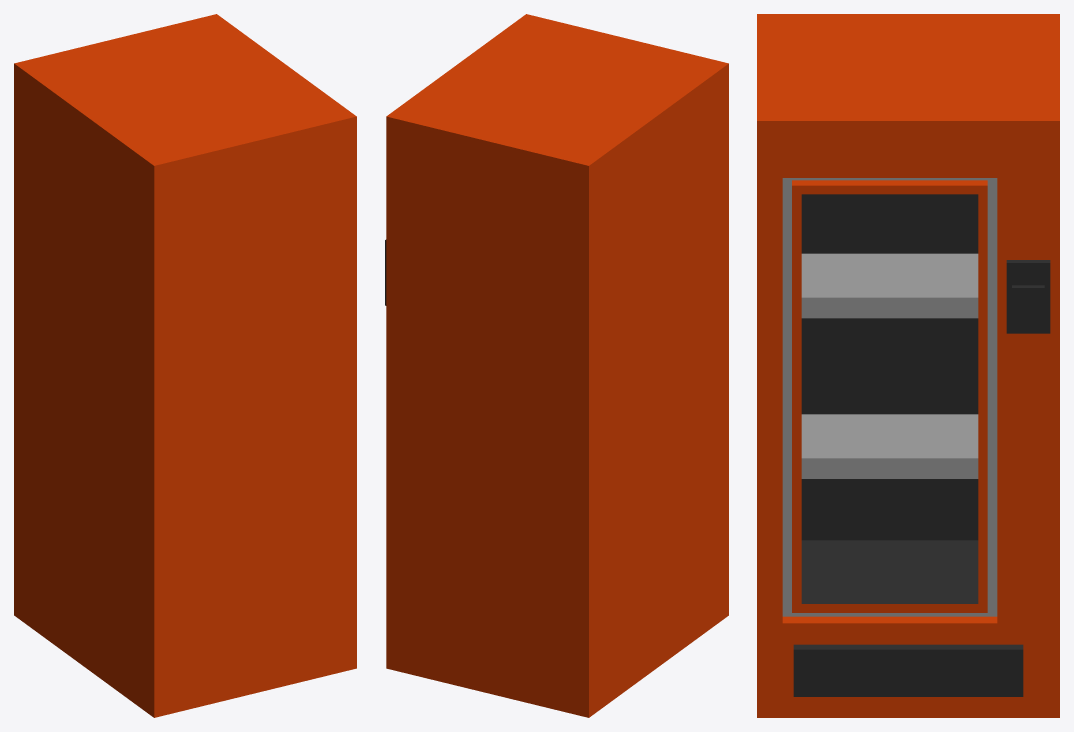
The model's file is vending.fbx.
3 views of the same model, side by side, from view 1: azimuth 30°, elevation 25°; view 2: azimuth 150°, elevation 25°; view 3: azimuth 270°, elevation 25° (orthographic). The views are drawn at different scales.
Parts seen in each view (by area): view 1: Cube; view 2: Cube; view 3: Cube, Cube.004, Cube.003, Cube.001.
Boxes of the visible parts, bbox=[...] form: Cube: bbox=[14, 14, 356, 717]; Cube: bbox=[386, 14, 728, 717]; Cube: bbox=[757, 14, 1059, 717]; Cube.004: bbox=[801, 253, 978, 318]; Cube.003: bbox=[801, 414, 978, 478]; Cube.001: bbox=[1006, 260, 1050, 333].
Bounding box in the file's own units: 210 × 521 × 239.
